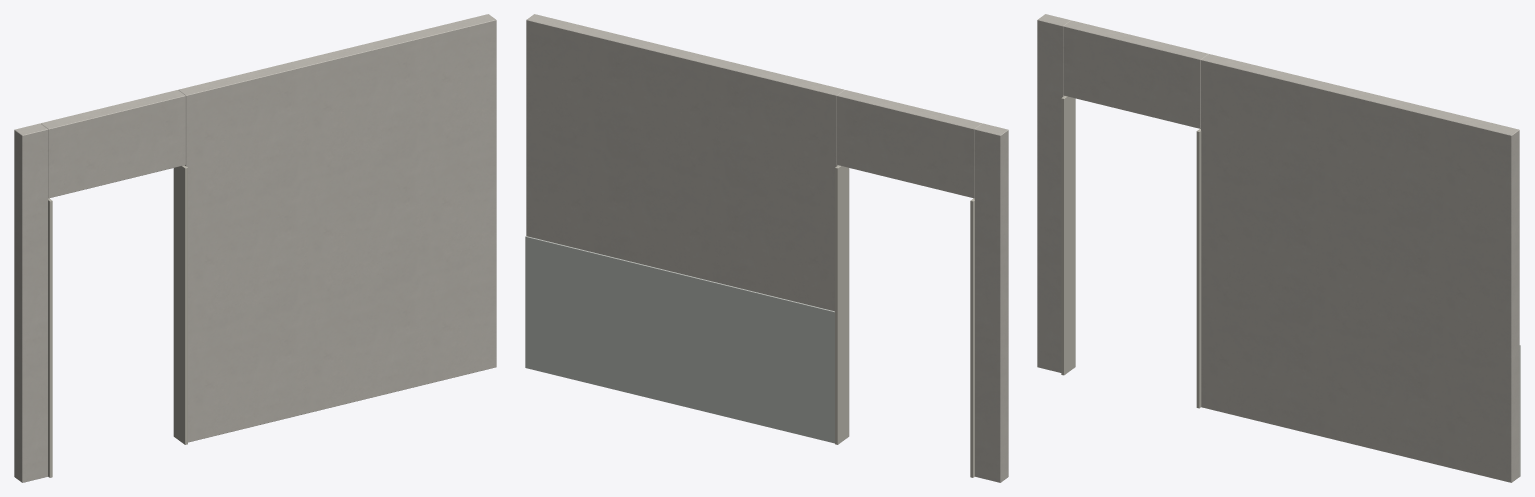
File: bathroom_partition_4m_019_v4.glb
The picture shows the model from 3 angles, left to right: view 1: azimuth 30°, elevation 25°; view 2: azimuth 150°, elevation 25°; view 3: azimuth 330°, elevation 25°; orthographic projection.
Visible parts, largest first — view 1: INSTANCE__bathroom_partition_4m__019; view 2: INSTANCE__bathroom_partition_4m__019; view 3: INSTANCE__bathroom_partition_4m__019.
Boxes of the visible parts, x1,y1,x2,y2 form: INSTANCE__bathroom_partition_4m__019: (14,14,496,482); INSTANCE__bathroom_partition_4m__019: (525,14,1008,482); INSTANCE__bathroom_partition_4m__019: (1037,14,1520,482).
Size of the model in its own units: 4 by 2.8 by 0.17.
4 materials, 2 textured.
